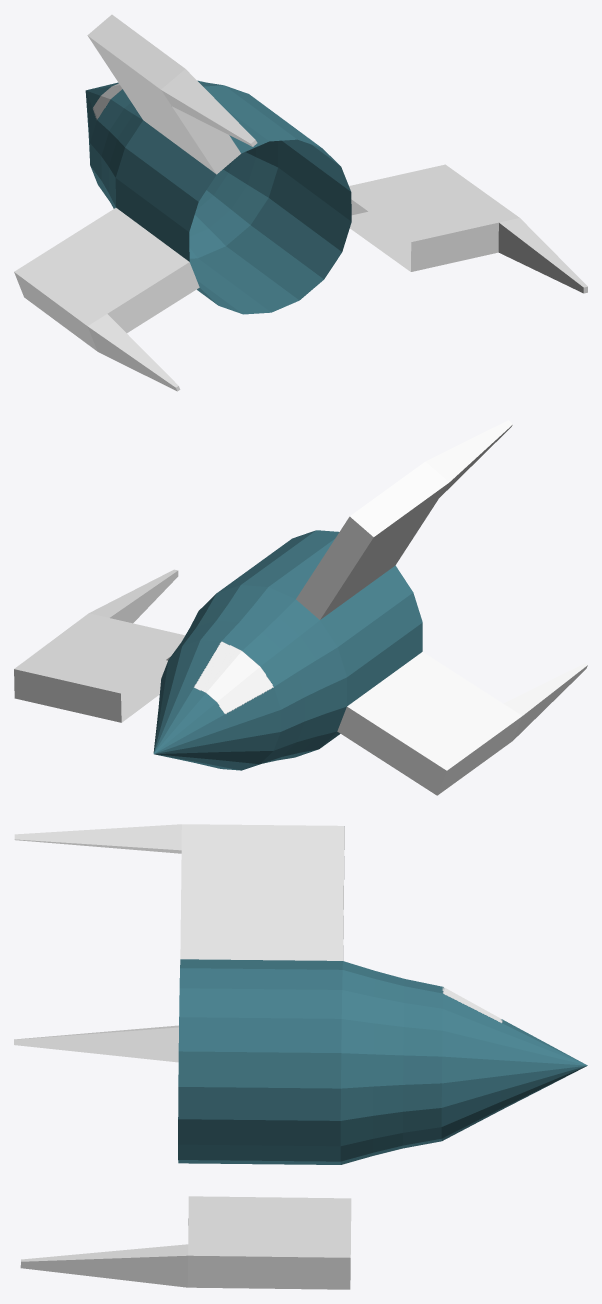
File: alus_kip.fbx
3 views of the same model, one above another, from view 1: azimuth 30°, elevation 25°; view 2: azimuth 150°, elevation 25°; view 3: azimuth 270°, elevation 25° (orthographic). The views are drawn at different scales.
Parts seen in each view (by area): view 1: Cone, Cone.001; view 2: Cone, Cone.001; view 3: Cone, Cone.001.
Part boxes in pixels (x1,y1,x2,y2): Cone: [14, 14, 351, 391]; Cone.001: [349, 164, 587, 293]; Cone: [153, 420, 587, 795]; Cone.001: [14, 569, 184, 722]; Cone: [14, 824, 587, 1164]; Cone.001: [20, 1196, 351, 1289].
Bounding box in the file's own units: 769 × 446 × 808.
Materials: 1 (1 with a texture image).
